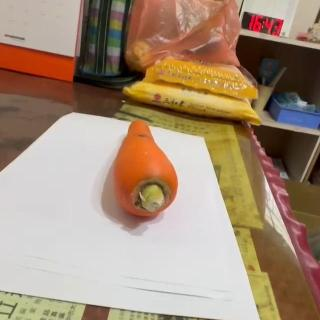carrot: (111, 119, 181, 221)
